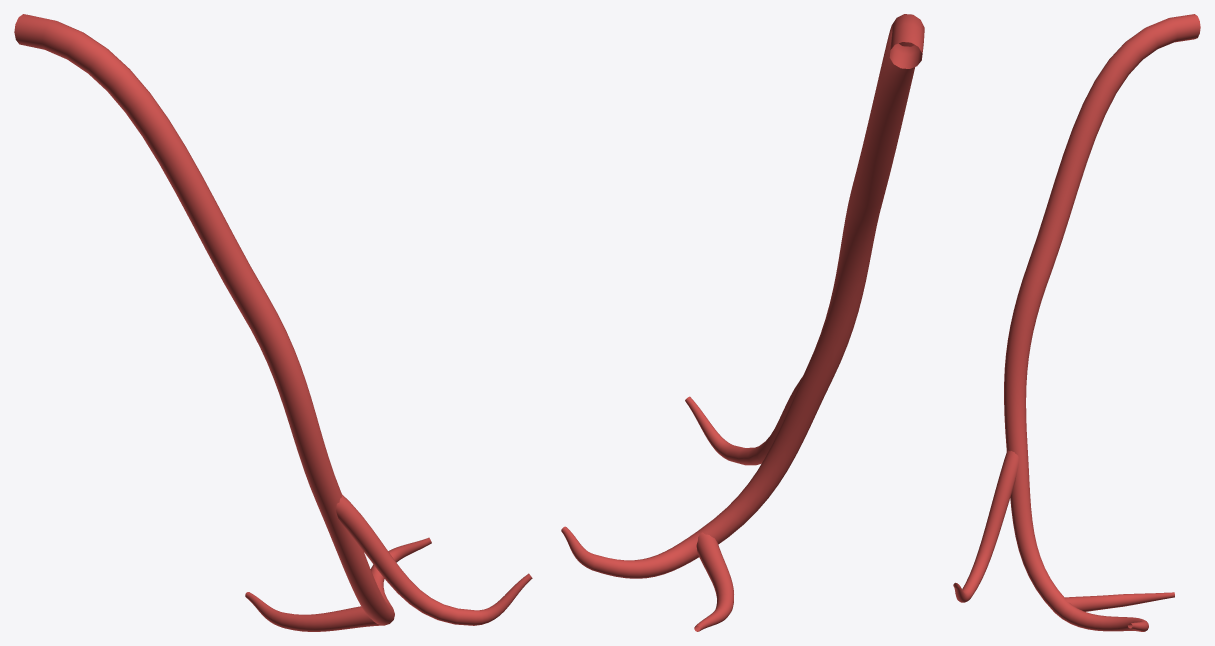
3 renders of one model, left to right at view 1: azimuth 30°, elevation 25°; view 2: azimuth 150°, elevation 25°; view 3: azimuth 270°, elevation 25°, orthographic. The views are drawn at different scales.
Parts seen in each view (by area): view 1: 左侧髂腰动脉腰支; view 2: 左侧髂腰动脉腰支; view 3: 左侧髂腰动脉腰支.
Boxes of the visible parts, <box> form: 左侧髂腰动脉腰支: <box>14,14,532,631</box>; 左侧髂腰动脉腰支: <box>561,14,924,631</box>; 左侧髂腰动脉腰支: <box>953,14,1200,631</box>.
Size of the model in its own units: 0.0407 by 0.0648 by 0.0286.
